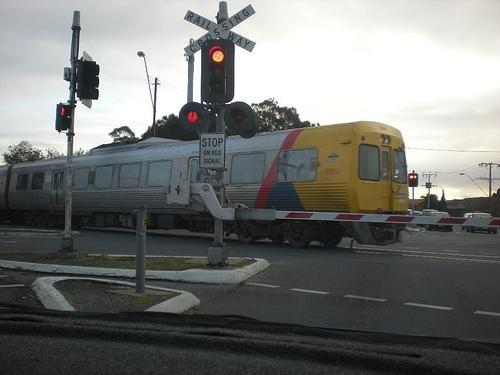car: (460, 212, 496, 234), (427, 212, 453, 232), (420, 209, 436, 216), (409, 210, 422, 216)
